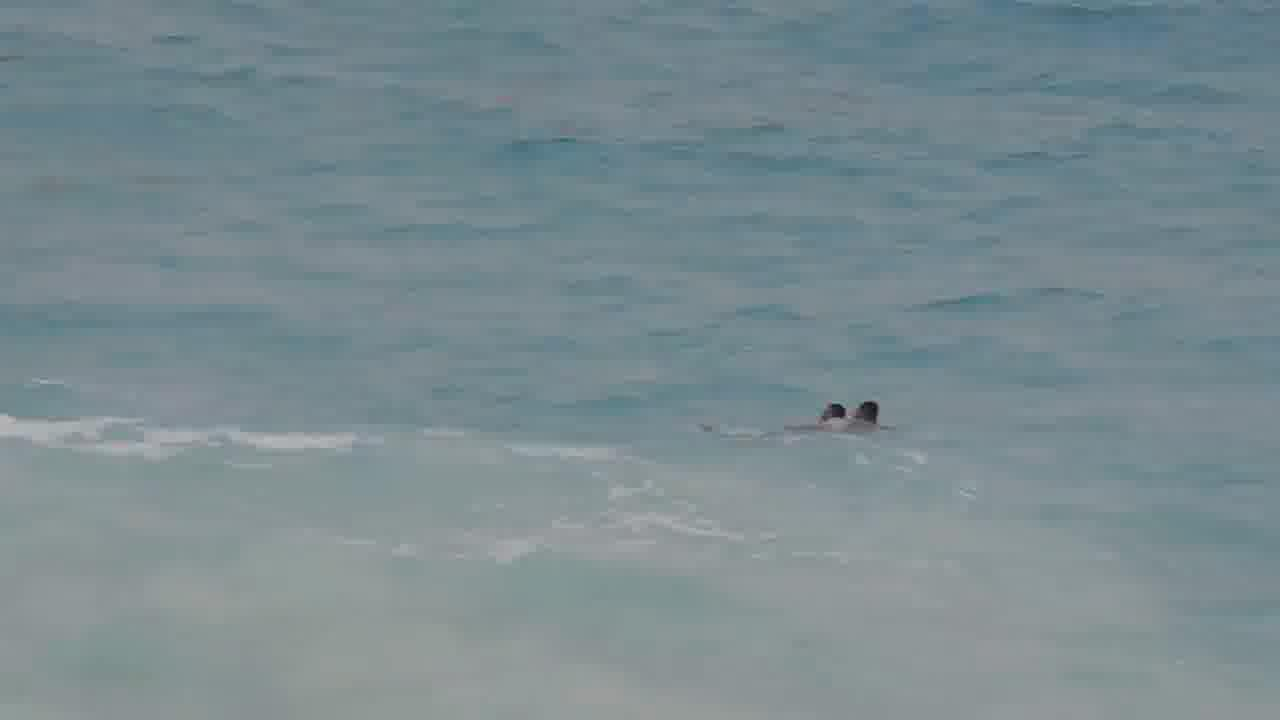human: (851, 378, 889, 444), (812, 389, 837, 429)
